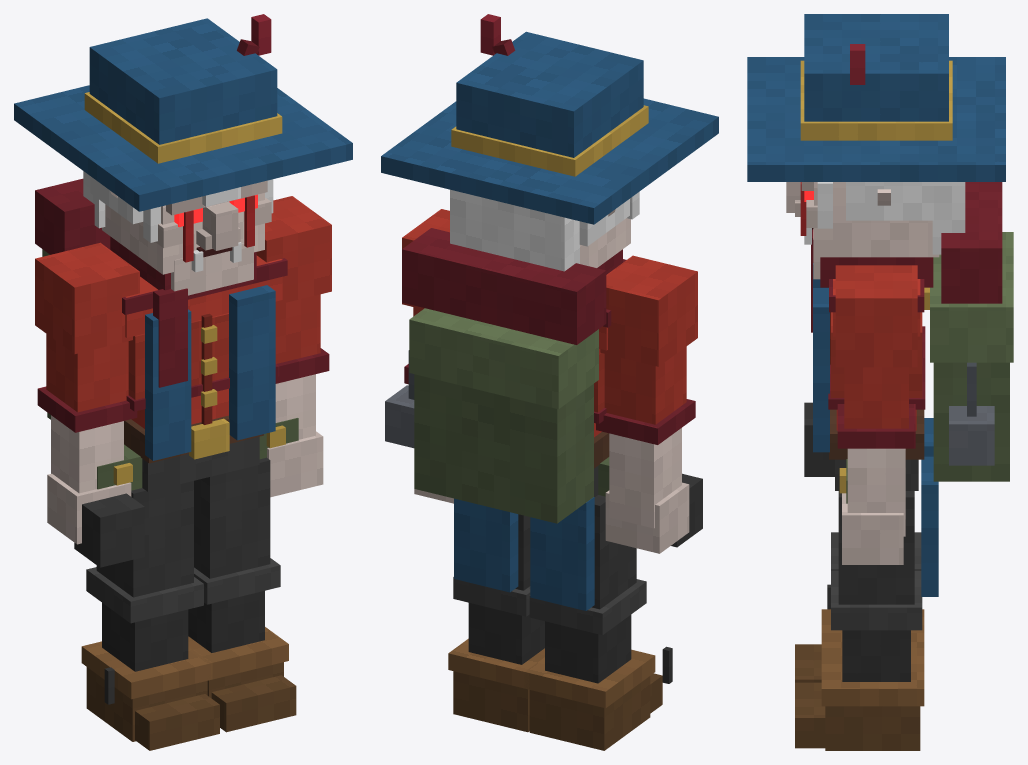
File: kijin_marchand_v3.glb
3 renders of one model, left to right at view 1: azimuth 30°, elevation 25°; view 2: azimuth 150°, elevation 25°; view 3: azimuth 270°, elevation 25°, orthographic. The views are drawn at different scales.
Parts seen in each view (by area): view 1: Head, Torso, LegR, ArmR, LegL, ArmL, HandR; view 2: Torso, Head, ArmR, LegR, LegL, HandR, ArmL; view 3: Head, Torso, ArmL, LegL, LegR, HandR.
Part boxes in pixels (box(x1,y1,x2,y2)): Head: box(14, 14, 352, 297); Torso: box(35, 178, 298, 491); LegR: box(81, 481, 219, 750); ArmR: box(35, 242, 139, 544); LegL: box(188, 457, 296, 732); ArmL: box(256, 196, 331, 497); HandR: box(74, 493, 144, 704); Torso: box(385, 228, 626, 610); Head: box(381, 14, 718, 274); ArmR: box(596, 255, 697, 553); LegR: box(524, 495, 662, 750); LegL: box(448, 514, 544, 732); HandR: box(662, 473, 702, 683); ArmL: box(402, 209, 453, 503); Head: box(747, 14, 1005, 287); Torso: box(811, 182, 1013, 596); ArmL: box(835, 265, 917, 564); LegL: box(795, 491, 924, 750); LegR: box(795, 532, 924, 682); HandR: box(804, 402, 834, 609).
Size of the model in its own units: 0.807 by 2.03 by 0.7.
35 materials, 35 textured.
